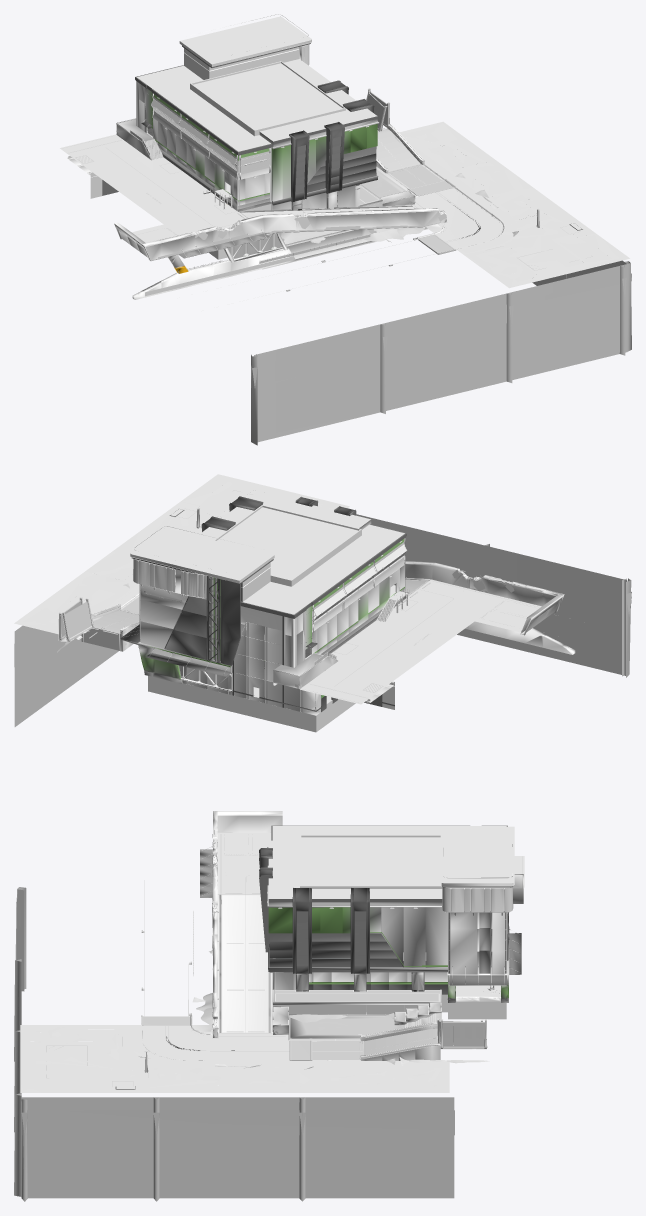
File: cell_84_57.fbx
The picture shows the model from 3 angles, top to bottom: view 1: azimuth 30°, elevation 25°; view 2: azimuth 150°, elevation 25°; view 3: azimuth 270°, elevation 25°; orthographic projection. The views are drawn at different scales.
Parts seen in each view (by area): view 1: SM_H_Building_FutureTech_HOrange_01_ExterWall_01.mo.001, SM_I_RoadFacility_Ground_R_02M.mo, SM_H_Building_FutureTech_HStairs_02.mo.001, SM_I_RoadFacility_Ground_H_10.mo, SM_I_RoadFacility_Ground_R_02M_Decal.mo, SM_H_Building_FutureTech_HStairs_01B.mo.001, SM_I_RoadFacility_Ground_H_22.mo.001, SM_I_RoadFacility_Ground_H_21.mo.003, SM_I_RoadFacility_Ground_H_10B.mo; view 2: SM_H_Building_FutureTech_HOrange_01_ExterWall_01.mo.001, SM_I_RoadFacility_Ground_R_02M.mo, SM_H_Building_FutureTech_HStairs_02.mo.001, SM_I_RoadFacility_Ground_H_10.mo, SM_I_RoadFacility_Ground_H_21.mo.003, SM_H_Building_FutureTech_HStairs_01B.mo.001, SM_H_Fence_SoundproofWall_02.mo.098, SM_H_Building_FutureTech_HStairs_01E.mo.001; view 3: SM_H_Building_FutureTech_HOrange_01_ExterWall_01.mo.001, SM_I_RoadFacility_Ground_R_02M.mo, SM_I_RoadFacility_Ground_H_10.mo, SM_H_Building_FutureTech_HStairs_02.mo.001, SM_I_RoadFacility_Ground_R_02M_Decal.mo, SM_I_RoadFacility_Ground_H_22.mo.001, SM_I_RoadFacility_Ground_H_21.mo.003, SM_H_Building_FutureTech_HStairs_01B.mo.001, SM_H_Fence_SoundproofWall_02.mo.097, SM_I_RoadFacility_Ground_H_10B.mo, SM_I_RoadFacility_Ground_H_13B.mo.001.
Part boxes in pixels (x1,y1,x2,y2): SM_H_Building_FutureTech_HOrange_01_ExterWall_01.mo.001: [67, 14, 379, 259]; SM_I_RoadFacility_Ground_R_02M.mo: [251, 188, 631, 445]; SM_H_Building_FutureTech_HStairs_02.mo.001: [60, 118, 446, 299]; SM_I_RoadFacility_Ground_H_10.mo: [399, 121, 629, 288]; SM_I_RoadFacility_Ground_R_02M_Decal.mo: [251, 273, 631, 387]; SM_H_Building_FutureTech_HStairs_01B.mo.001: [62, 131, 446, 296]; SM_I_RoadFacility_Ground_H_22.mo.001: [359, 165, 441, 206]; SM_I_RoadFacility_Ground_H_21.mo.003: [376, 124, 424, 173]; SM_I_RoadFacility_Ground_H_10B.mo: [404, 138, 517, 254]; SM_H_Building_FutureTech_HOrange_01_ExterWall_01.mo.001: [120, 491, 406, 732]; SM_I_RoadFacility_Ground_R_02M.mo: [14, 514, 631, 726]; SM_H_Building_FutureTech_HStairs_02.mo.001: [273, 561, 575, 704]; SM_I_RoadFacility_Ground_H_10.mo: [14, 474, 349, 639]; SM_I_RoadFacility_Ground_H_21.mo.003: [80, 603, 139, 651]; SM_H_Building_FutureTech_HStairs_01B.mo.001: [273, 562, 566, 702]; SM_H_Fence_SoundproofWall_02.mo.098: [63, 598, 93, 640]; SM_H_Building_FutureTech_HStairs_01E.mo.001: [302, 581, 540, 703]; SM_H_Building_FutureTech_HOrange_01_ExterWall_01.mo.001: [259, 825, 521, 1019]; SM_I_RoadFacility_Ground_R_02M.mo: [14, 887, 454, 1201]; SM_I_RoadFacility_Ground_H_10.mo: [20, 1016, 449, 1092]; SM_H_Building_FutureTech_HStairs_02.mo.001: [200, 811, 524, 1037]; SM_I_RoadFacility_Ground_R_02M_Decal.mo: [15, 902, 454, 1137]; SM_I_RoadFacility_Ground_H_22.mo.001: [272, 989, 441, 1059]; SM_I_RoadFacility_Ground_H_21.mo.003: [360, 1022, 440, 1060]; SM_H_Building_FutureTech_HStairs_01B.mo.001: [212, 811, 519, 1037]; SM_H_Fence_SoundproofWall_02.mo.097: [440, 1019, 484, 1049]; SM_I_RoadFacility_Ground_H_10B.mo: [126, 1025, 449, 1066]; SM_I_RoadFacility_Ground_H_13B.mo.001: [272, 990, 441, 1060].
Size of the model in its own units: 125 by 61.76 by 140.
